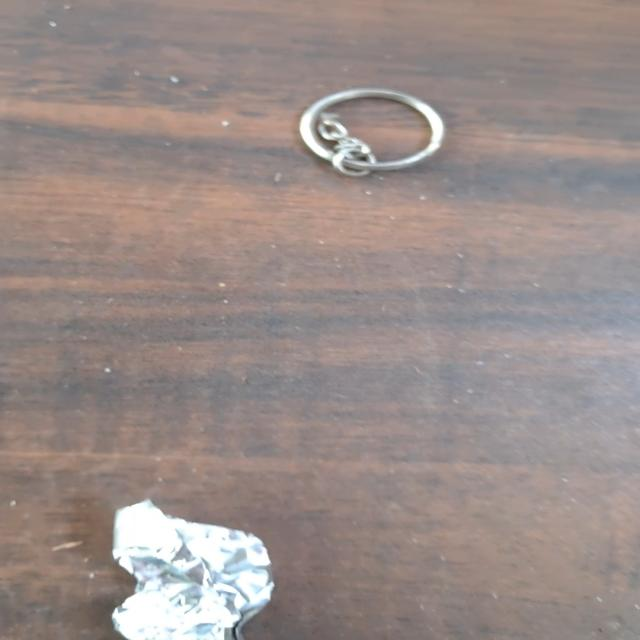Anorganik: (88, 496, 284, 640), (294, 84, 466, 184)
